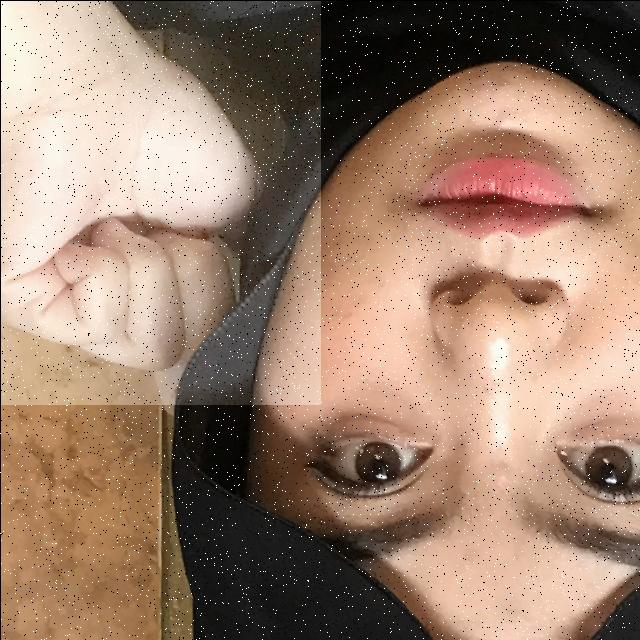ibu: (0, 0, 320, 404)
